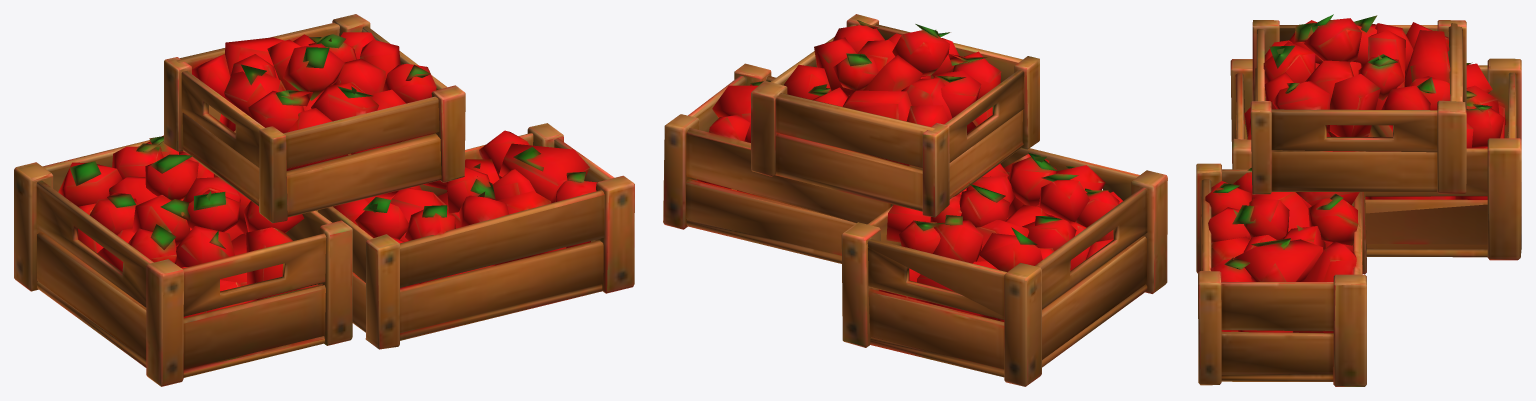
File: obstacle_crates.glb
The picture shows the model from 3 angles, left to right: view 1: azimuth 30°, elevation 25°; view 2: azimuth 150°, elevation 25°; view 3: azimuth 270°, elevation 25°; orthographic projection. The views are drawn at different scales.
Bounding box in the file's own units: 0.9507 × 0.5058 × 0.5976.
Materials: 1 (1 with a texture image).
